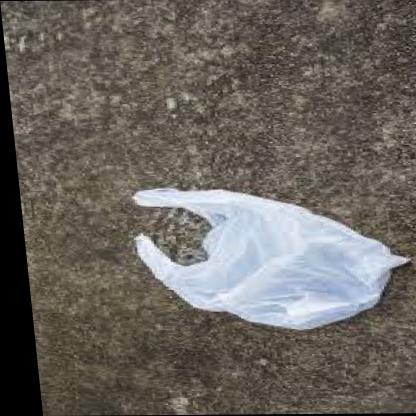trash: (134, 188, 409, 329)
